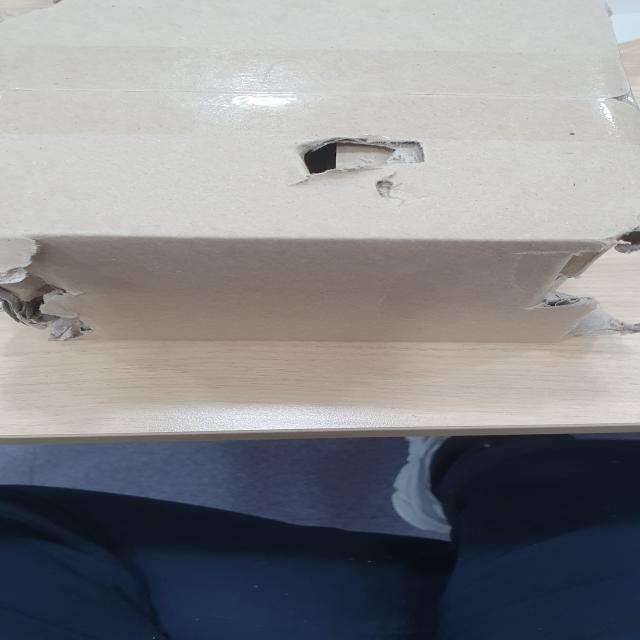hole: (289, 135, 399, 179), (4, 281, 92, 330)
